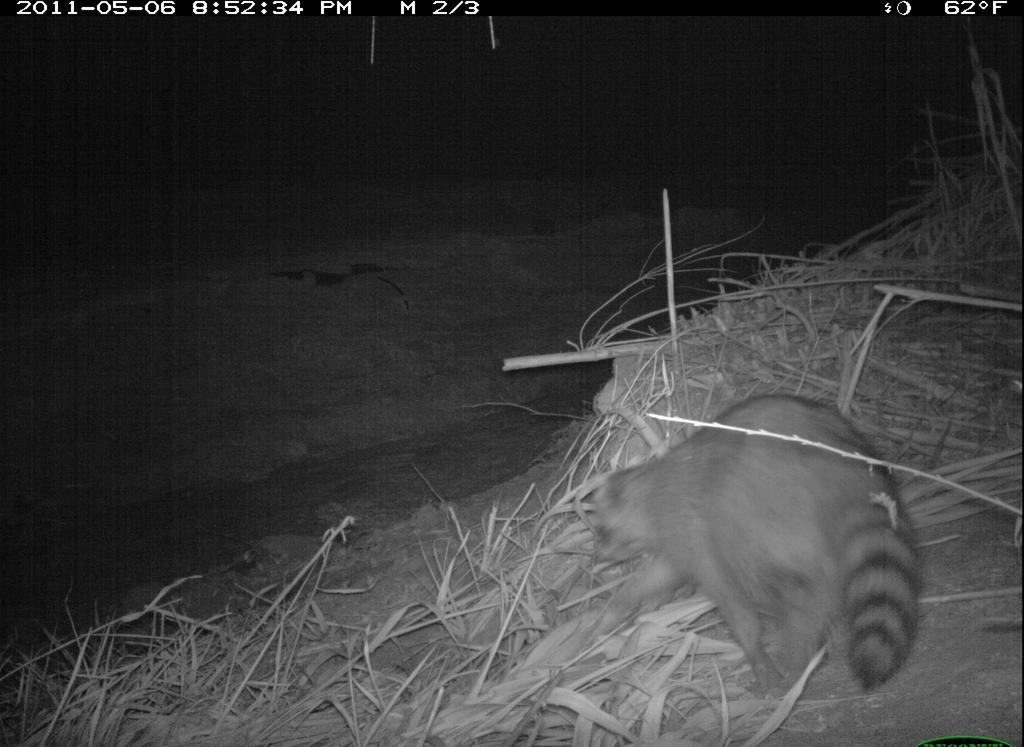raccoon: (570, 382, 967, 707)
